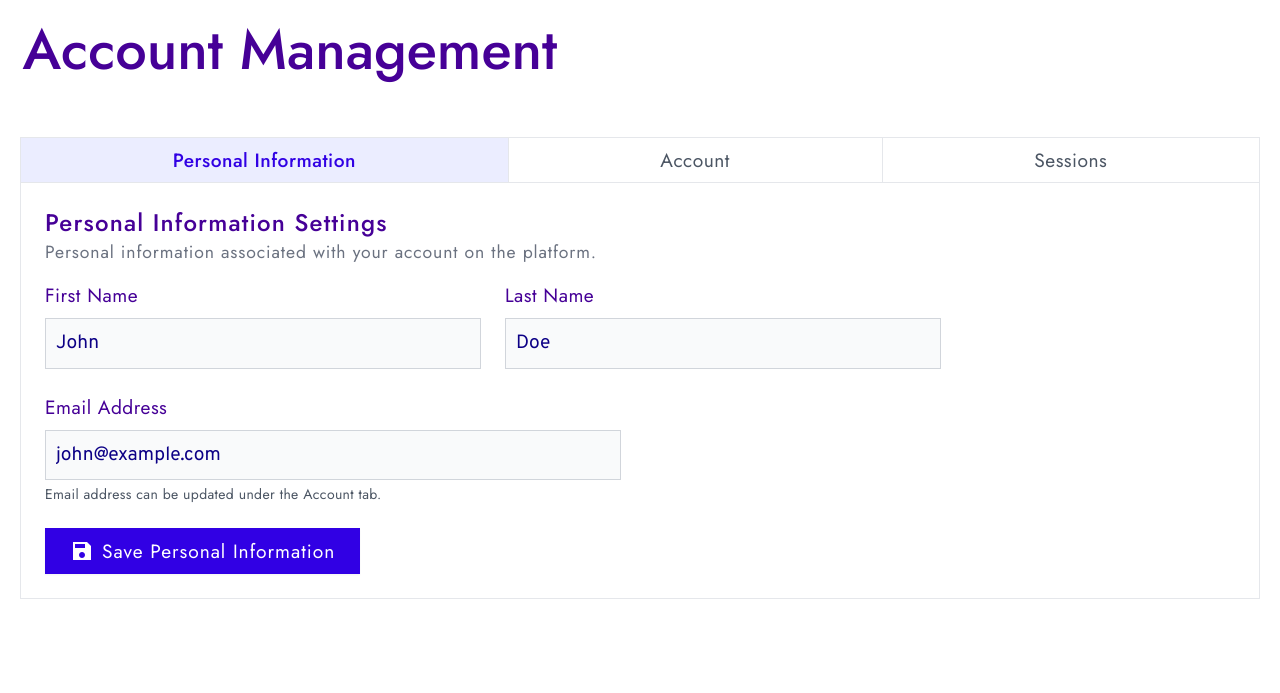
Test: AccountManagementPage › switches to the Account tab
Expected: the heading "Personal Information Settings" is shown, [45, 205, 388, 240]
Click the button "Account" at coordinates (695, 160), box [508, 137, 883, 183]
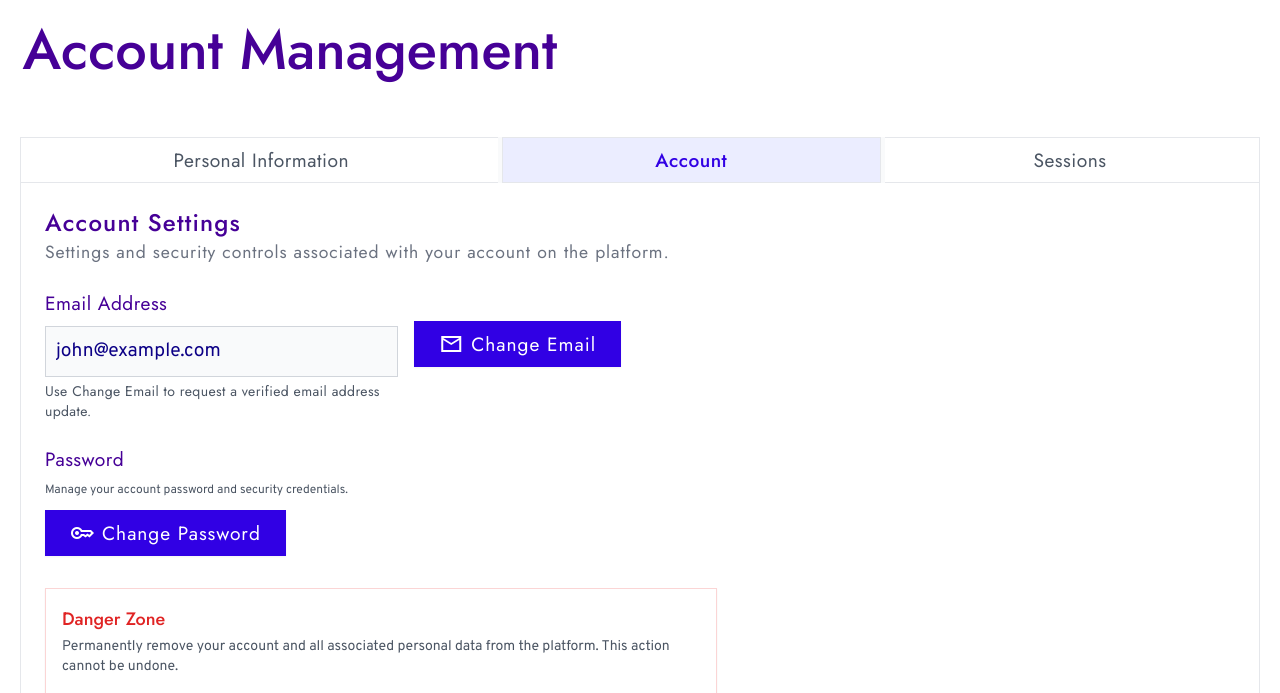
Expected: the heading "Account Settings" is shown, [45, 205, 241, 240]
Expected: the heading "Personal Information Settings" is gone
